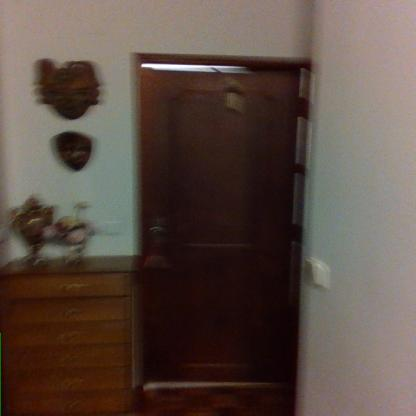closed: (119, 45, 322, 394)
